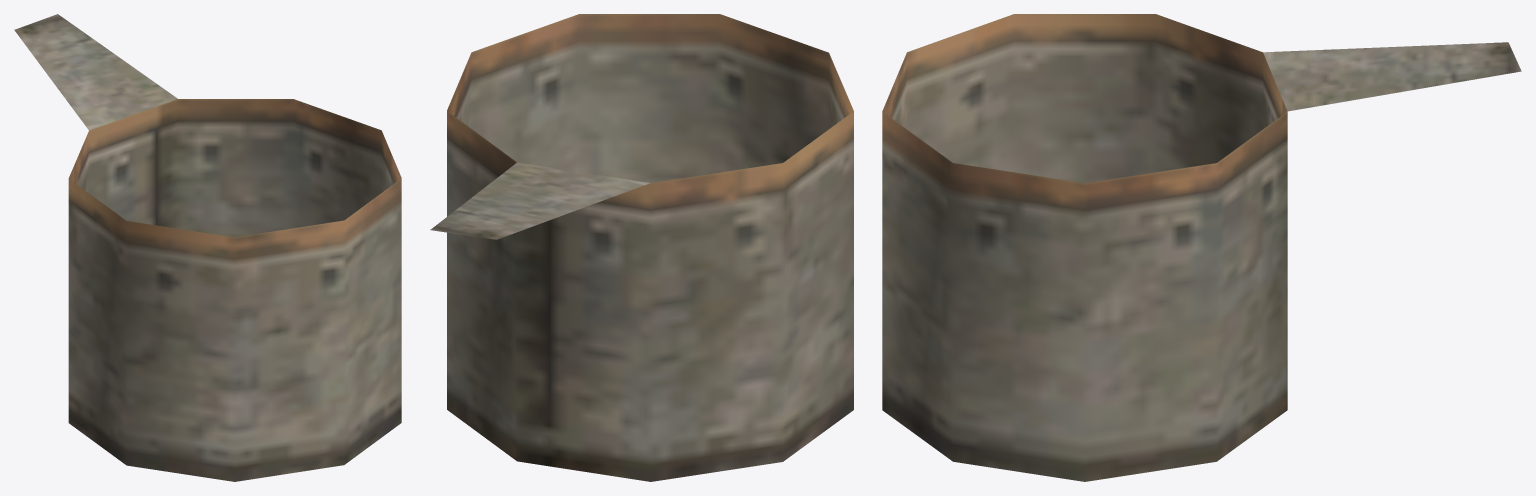
File: M5_Pot01.glb
The picture shows the model from 3 angles, left to right: view 1: azimuth 30°, elevation 25°; view 2: azimuth 150°, elevation 25°; view 3: azimuth 270°, elevation 25°; orthographic projection. The views are drawn at different scales.
Parts seen in each view (by area): view 1: M5_POT01; view 2: M5_POT01; view 3: M5_POT01.
Boxes of the visible parts, x1=… form: M5_POT01: x1=14, y1=14, x2=401, y2=481; M5_POT01: x1=430, y1=14, x2=853, y2=481; M5_POT01: x1=882, y1=14, x2=1521, y2=481.
Size of the model in its own units: 0.243 by 0.217 by 0.388.
Materials: 1 (1 with a texture image).
